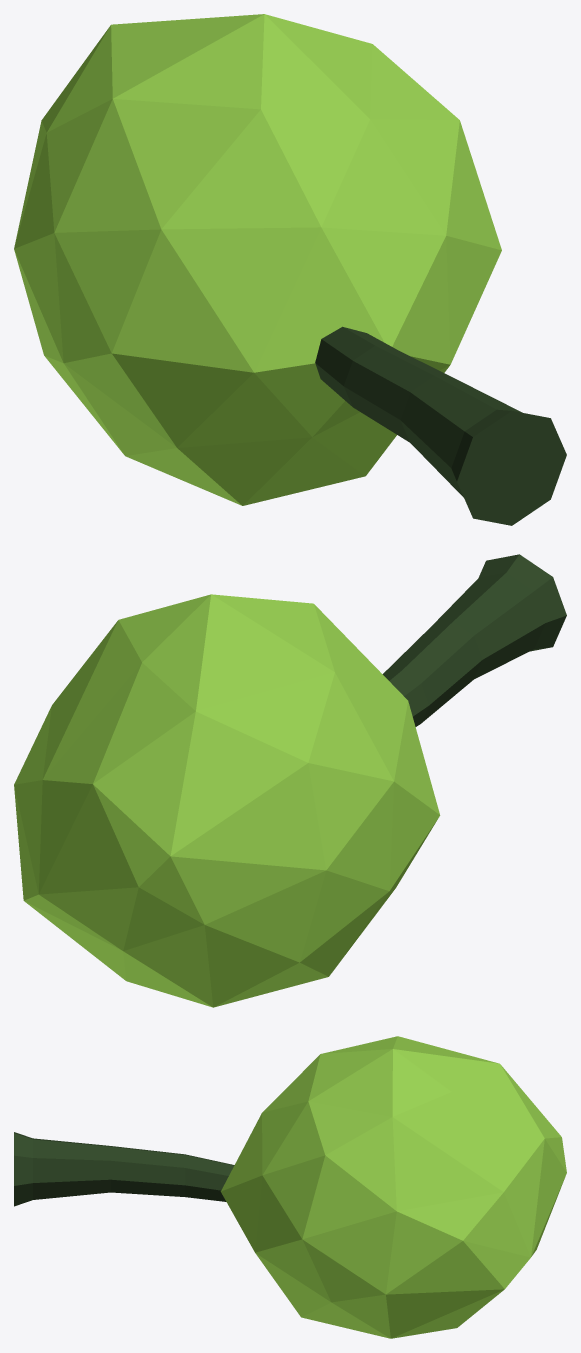
Rendered from OakTree_5.fbx.
The picture shows the model from 3 angles, top to bottom: view 1: azimuth 30°, elevation 25°; view 2: azimuth 150°, elevation 25°; view 3: azimuth 270°, elevation 25°; orthographic projection. The views are drawn at different scales.
Visible parts, largest first — view 1: OakTree_5; view 2: OakTree_5; view 3: OakTree_5.
Boxes of the visible parts, x1,y1,x2,y2 form: OakTree_5: (14,14,566,525); OakTree_5: (14,554,566,1007); OakTree_5: (14,1036,566,1338).
Size of the model in its own units: 326 by 344 by 622.
